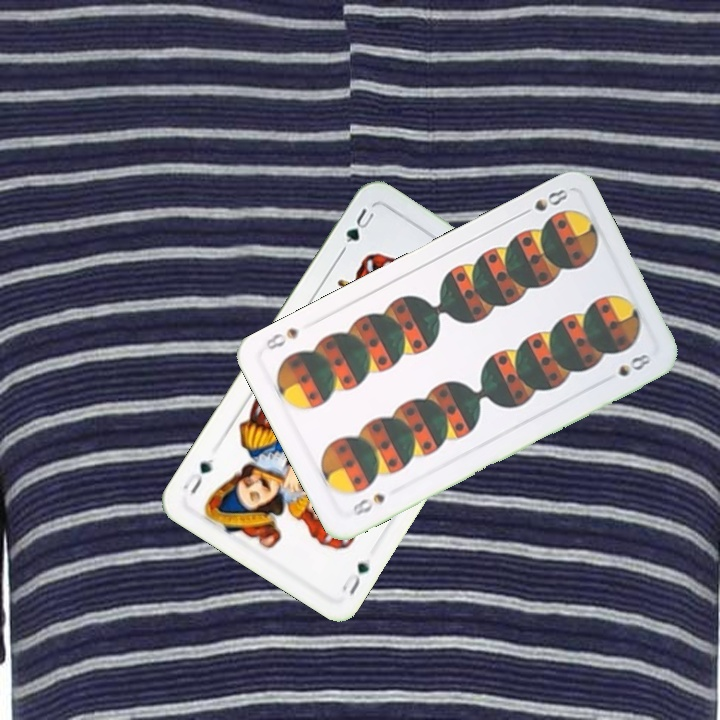GU: (337, 204, 379, 255), (337, 558, 372, 599)
S8: (515, 185, 571, 219), (346, 489, 388, 521)
